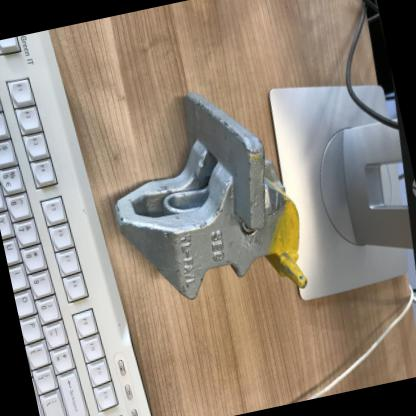Twistlock: (89, 68, 318, 330)
